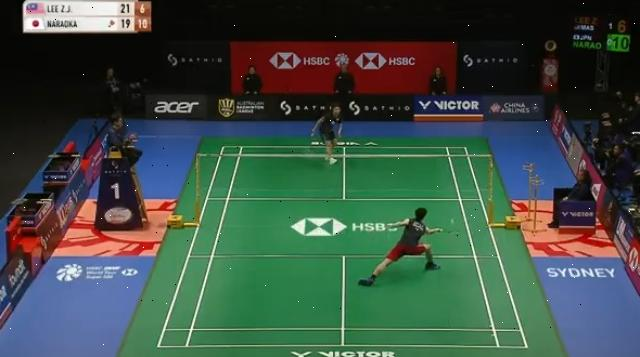Shuttlecock: (449, 214, 461, 228)
